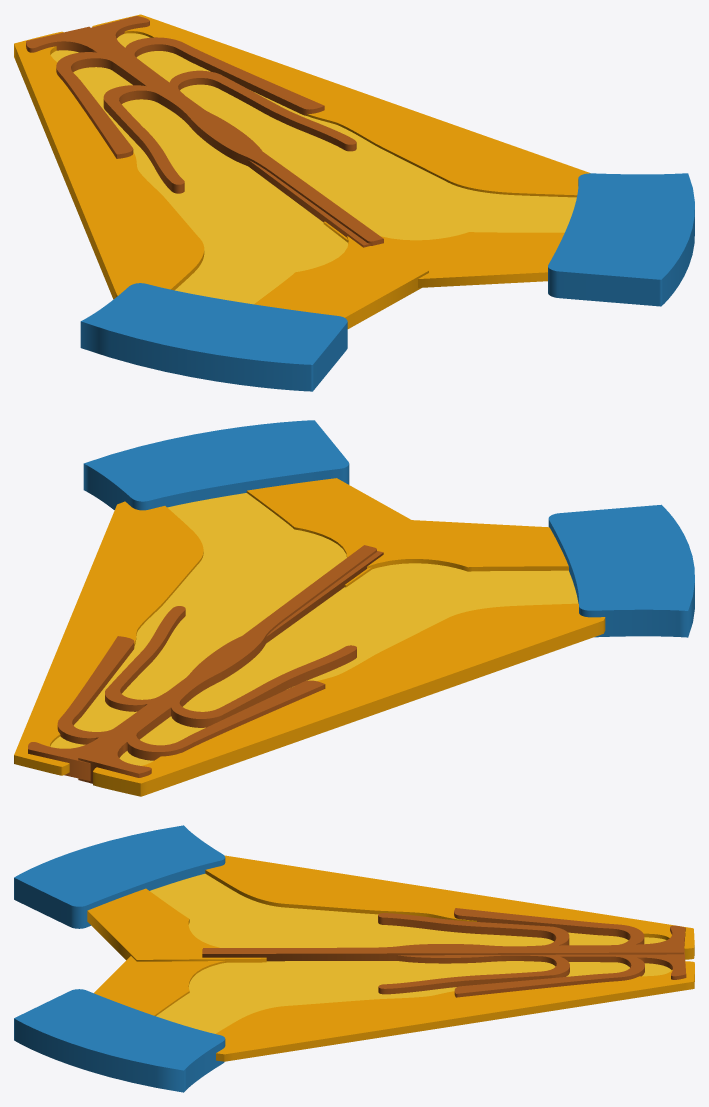
Rendered from emoji_u1f64f.glb.
The picture shows the model from 3 angles, top to bottom: view 1: azimuth 30°, elevation 25°; view 2: azimuth 150°, elevation 25°; view 3: azimuth 270°, elevation 25°; orthographic projection. The views are drawn at different scales.
Parts seen in each view (by area): view 1: emoji_u1f64f; view 2: emoji_u1f64f; view 3: emoji_u1f64f.
Boxes of the visible parts, <box> form: emoji_u1f64f: <box>14,14,694,391</box>; emoji_u1f64f: <box>14,420,694,796</box>; emoji_u1f64f: <box>14,825,694,1092</box>.
Size of the model in its own units: 0.0286 by 0.0012 by 0.0335.
